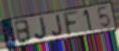1: (83, 9, 94, 33)
5: (96, 5, 113, 29)
B: (14, 19, 33, 45)
F: (61, 10, 79, 37)
J: (34, 15, 49, 41), (51, 13, 64, 37)
